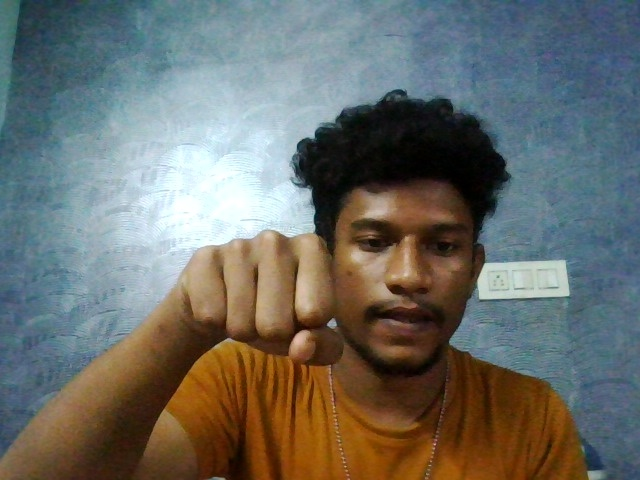yes: (163, 216, 361, 384)
